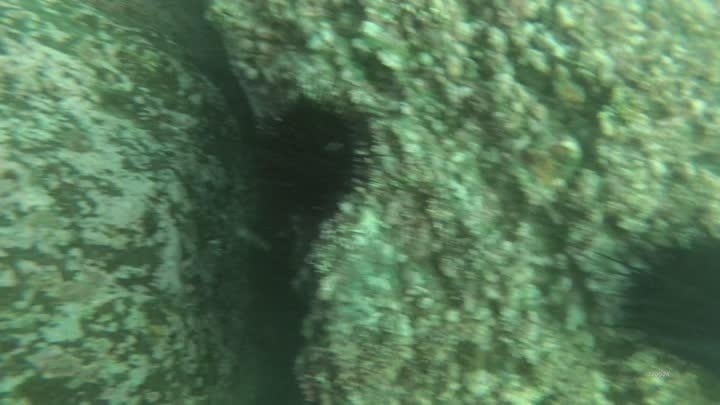echinus: (249, 92, 379, 224), (608, 227, 720, 374)
